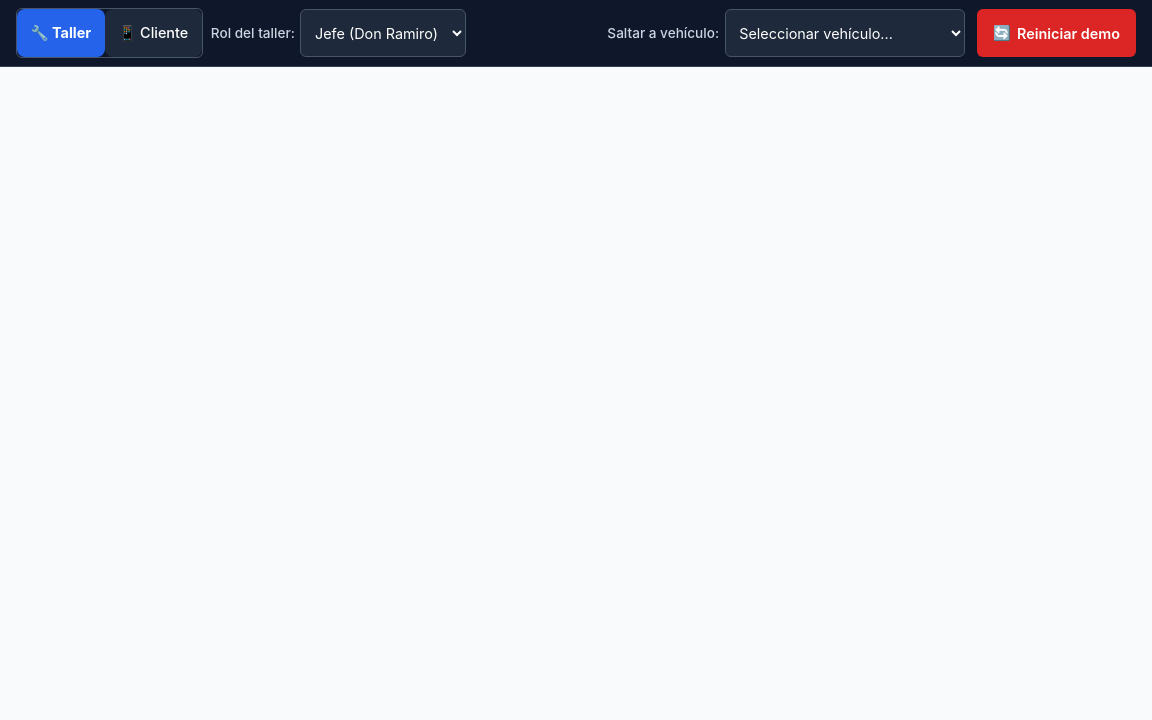
Componentes Comunes › DemoBar › el botón "Reiniciar demo" abre el diálogo de confirmación y al confirmar ejecuta el reset
Click the button "🔄 Reiniciar demo": [1056, 33] box x1=977 y1=9 x2=1136 y2=57
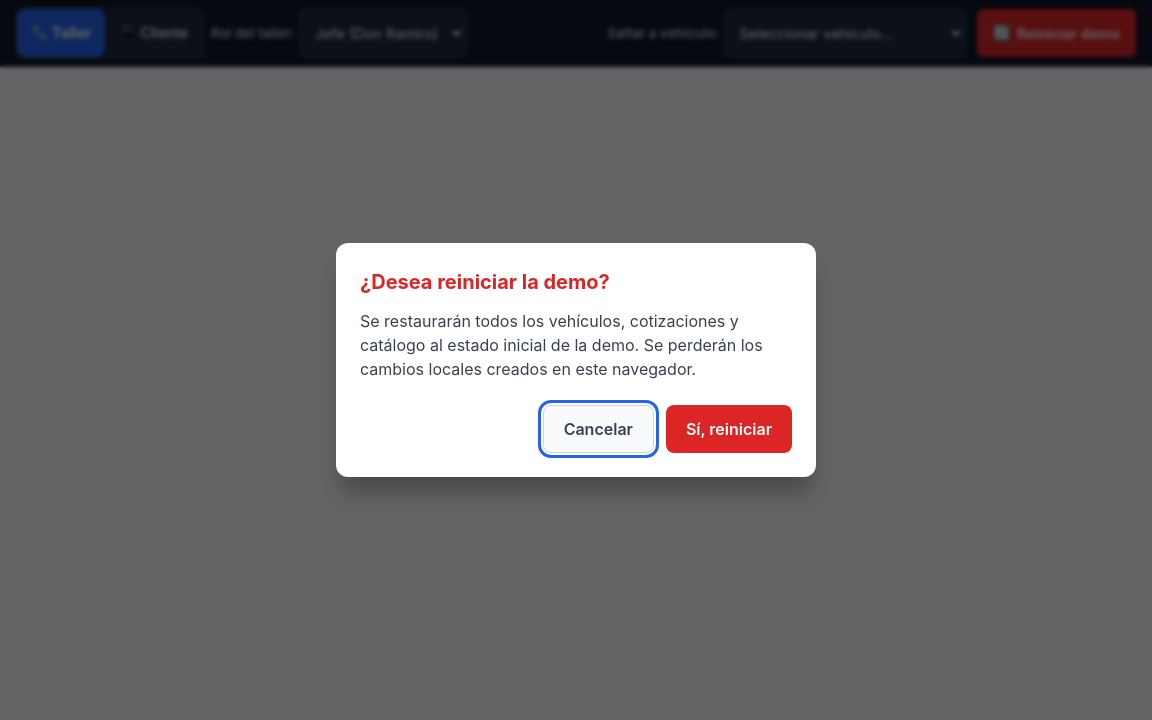
Result: the dialog is shown at x1=336 y1=243 x2=816 y2=477
Result: the heading "¿Desea reiniciar la demo?" is shown at x1=360 y1=270 x2=610 y2=294
Click the button "Sí, reiniciar": [729, 429] box x1=666 y1=405 x2=792 y2=453
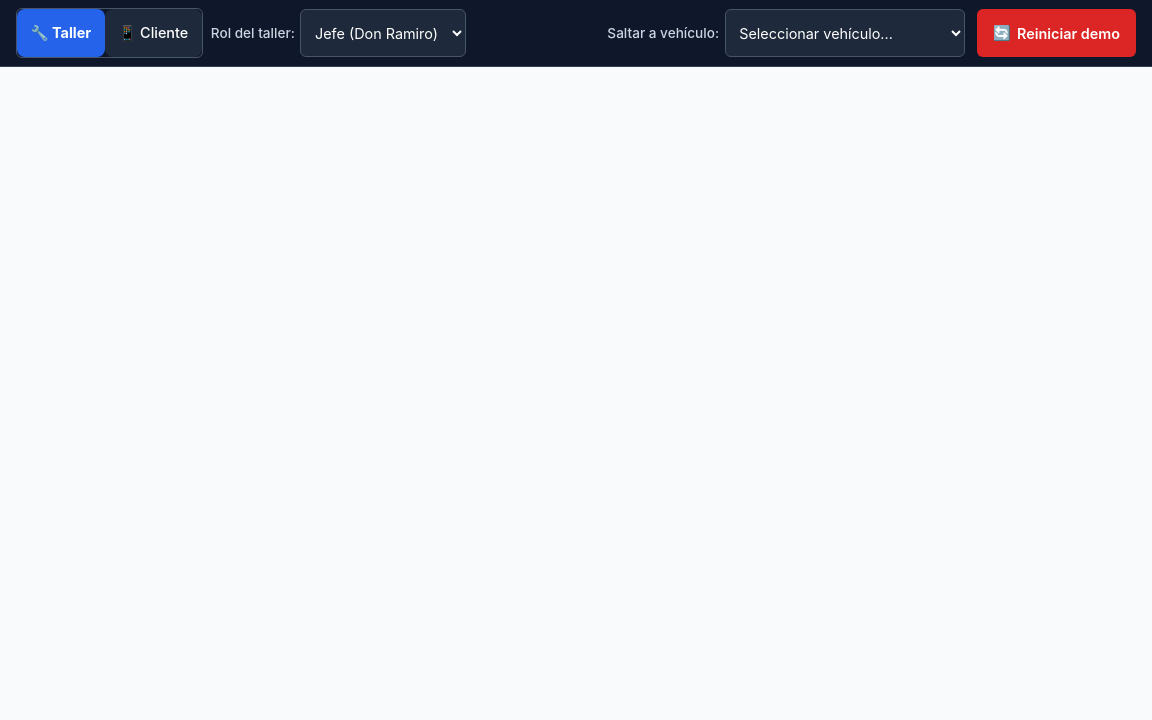
Result: the dialog is gone
